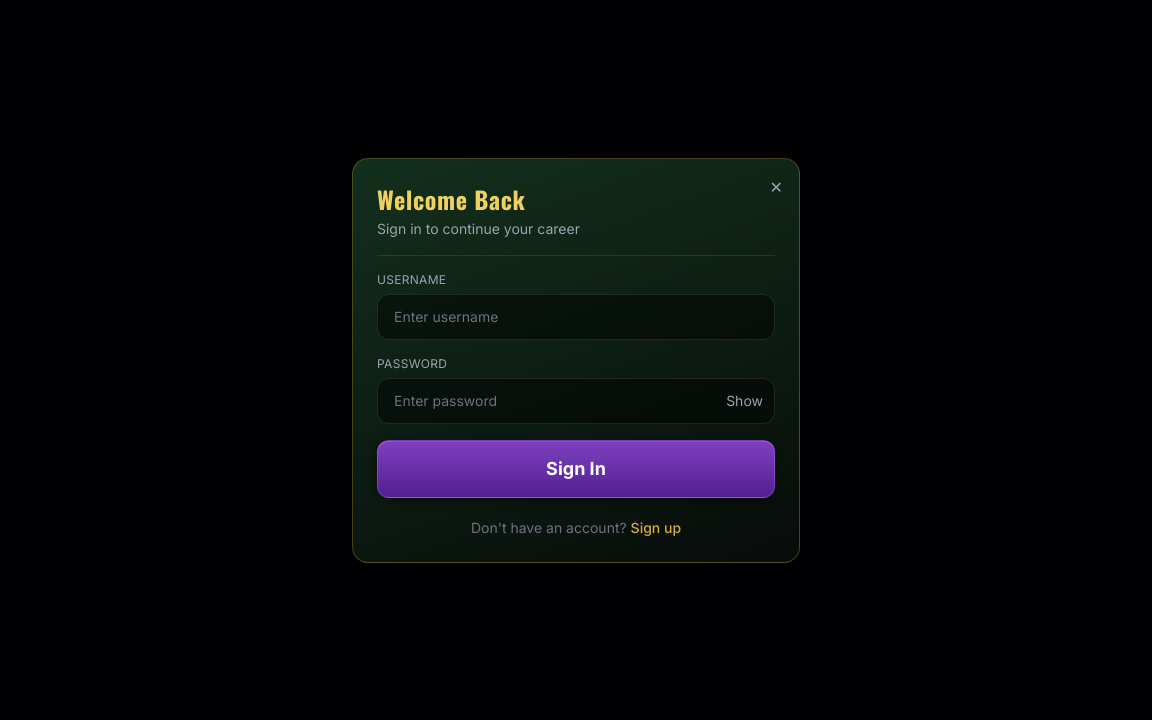
it: AUTH-UX-001 password show/hide › toggles password visibility without clearing the value
Type "secret123" into the password field with placeholder "Enter password" at point(576, 400), box left=377, top=378, right=775, bottom=424
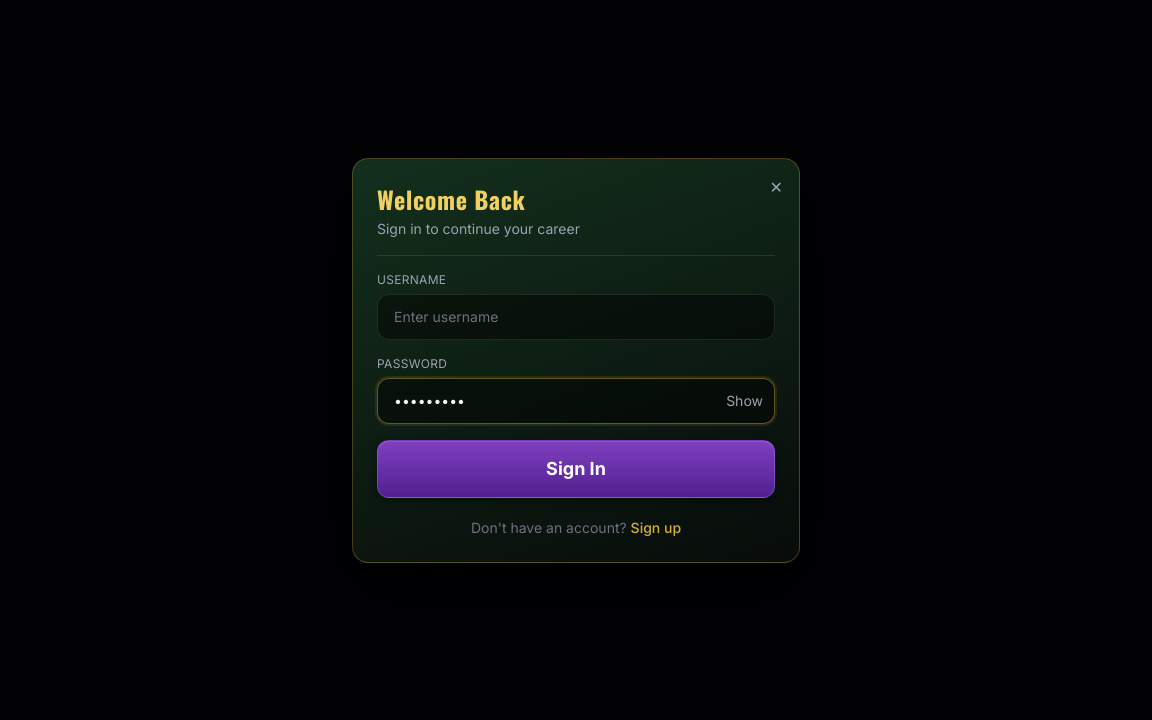
Click the button with aria-label "Show password" at point(745, 400), box left=726, top=390, right=763, bottom=410
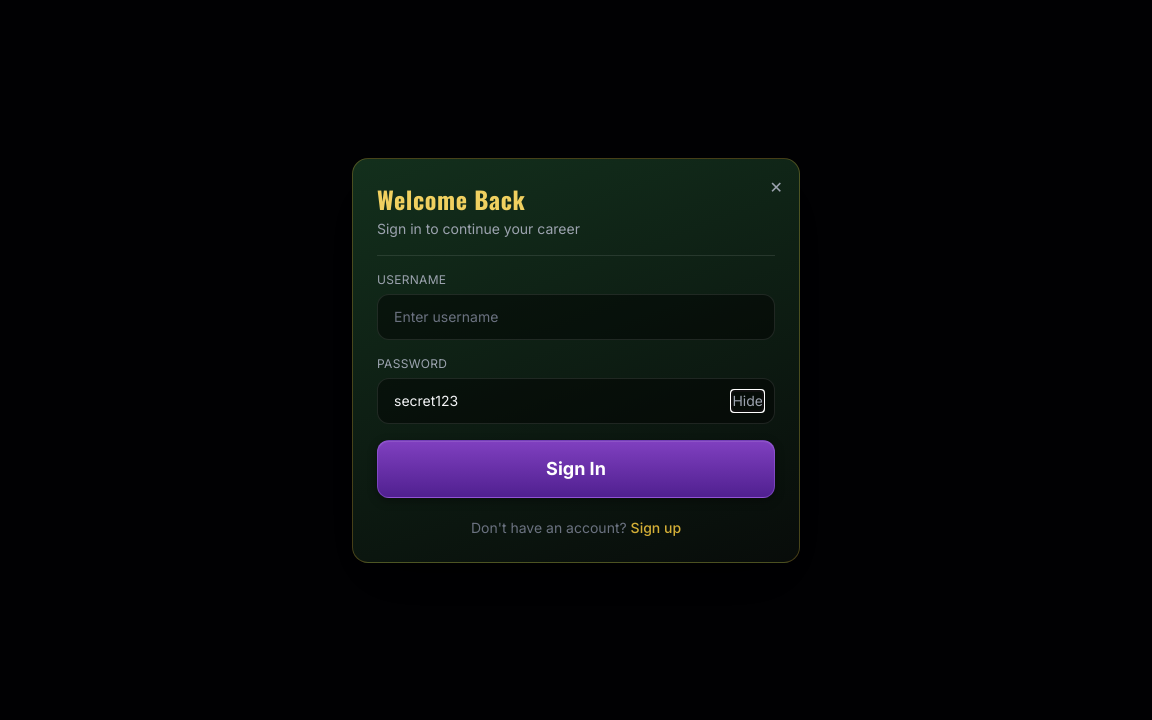
Expected: the field with placeholder "Enter password" shows its text, left=377, top=378, right=775, bottom=424
Click the button with aria-label "Hide password" at point(748, 400), box left=732, top=390, right=763, bottom=410
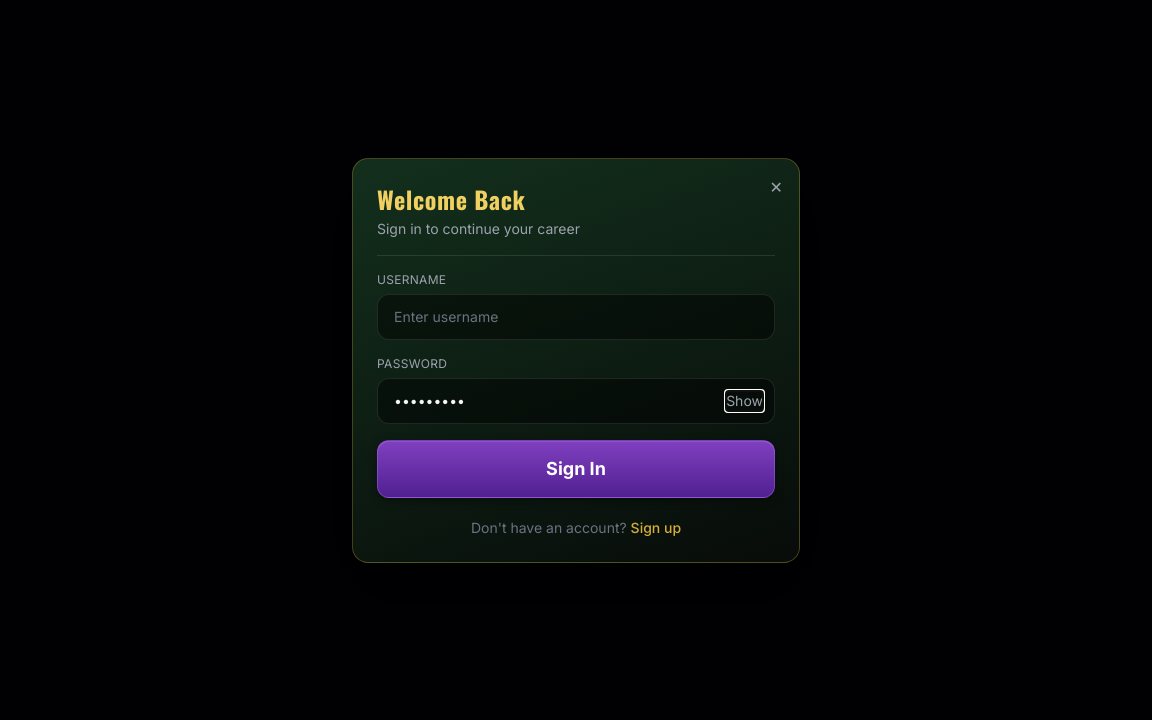
Expected: the password field with placeholder "Enter password" hides its text, left=377, top=378, right=775, bottom=424
